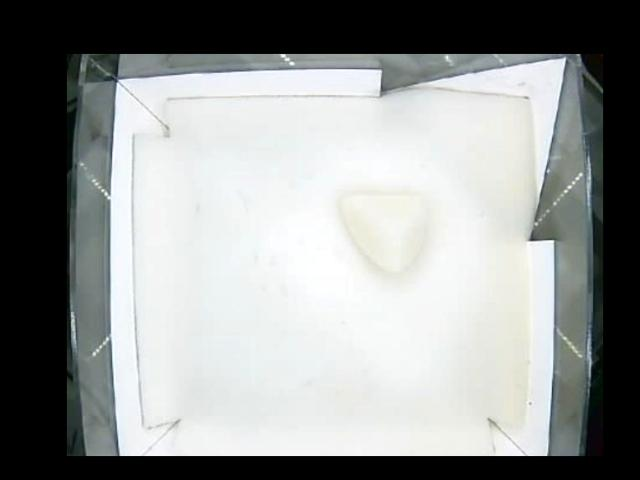Mooli: (339, 193, 428, 273)
